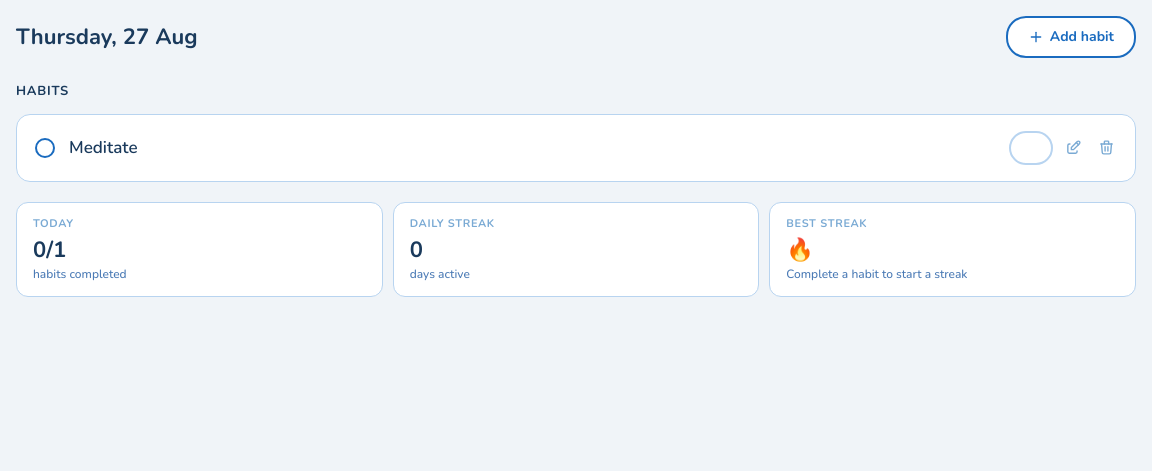
Test: HabitsSection component › given the form is open › when the user clicks Cancel › then closes the form and re-enables the 'Add habit' button
Click the button "Add habit". click: (1071, 37)
box: [1006,16,1136,58]
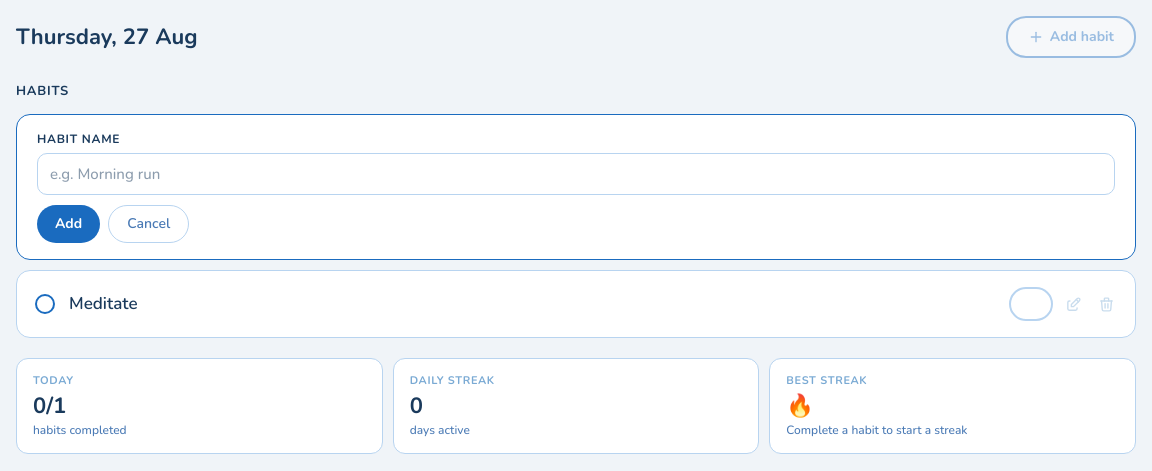
Click the button "Cancel". click: (149, 224)
box: [108,205,189,243]
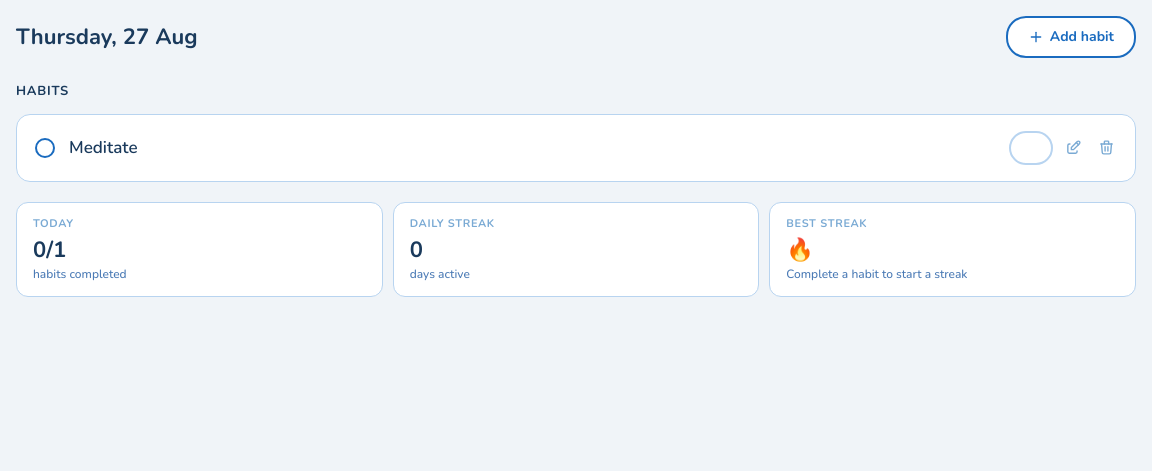
Expected: the label labelled "Habit name" is gone
Expected: the button "Add habit" is enabled, [1006,16,1136,58]
